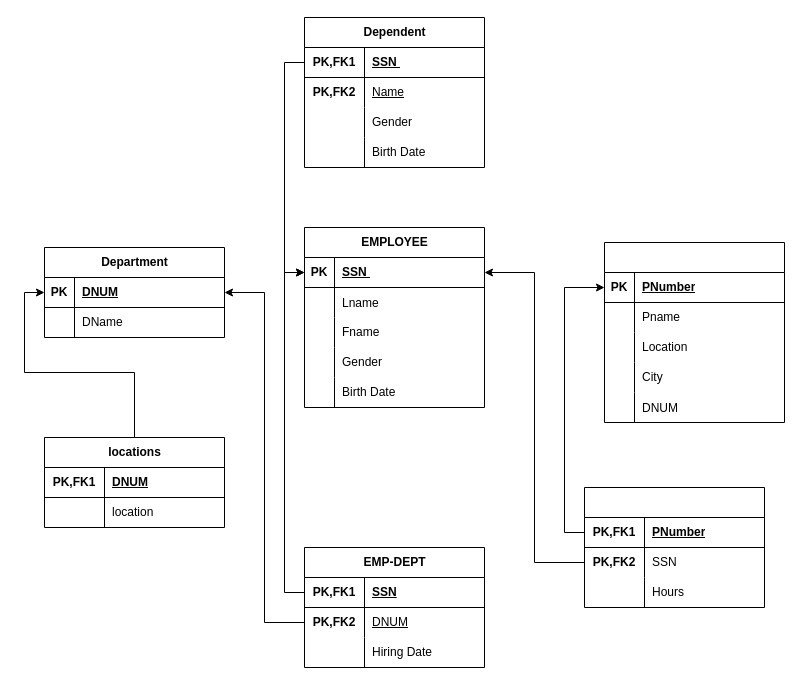
Some shapes in this 802 by 685 pixel diagram are drawn without their labels. Each missing label, with the box of its shape:
EMP-PRO: (584, 486, 764, 608)
Project: (604, 242, 784, 422)
